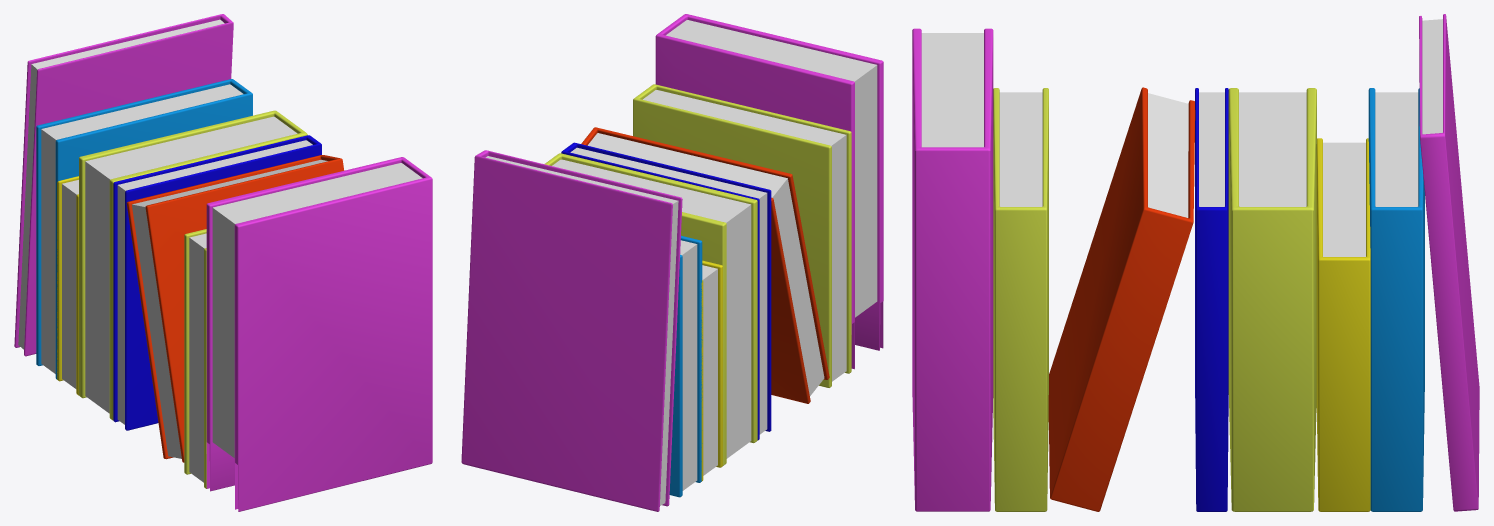
Rendered from ksiazki_fast2.fbx.
3 views of the same model, side by side, from view 1: azimuth 30°, elevation 25°; view 2: azimuth 150°, elevation 25°; view 3: azimuth 270°, elevation 25° (orthographic). The views are drawn at different scales.
Parts seen in each view (by area): view 1: Cube.001; view 2: Cube.001; view 3: Cube.001.
Part boxes in pixels (left/top/right/bottom): Cube.001: left=14, top=14, right=432, bottom=511; Cube.001: left=461, top=14, right=883, bottom=511; Cube.001: left=912, top=14, right=1479, bottom=511.
Bounding box in the file's own units: 172 × 249 × 339.
